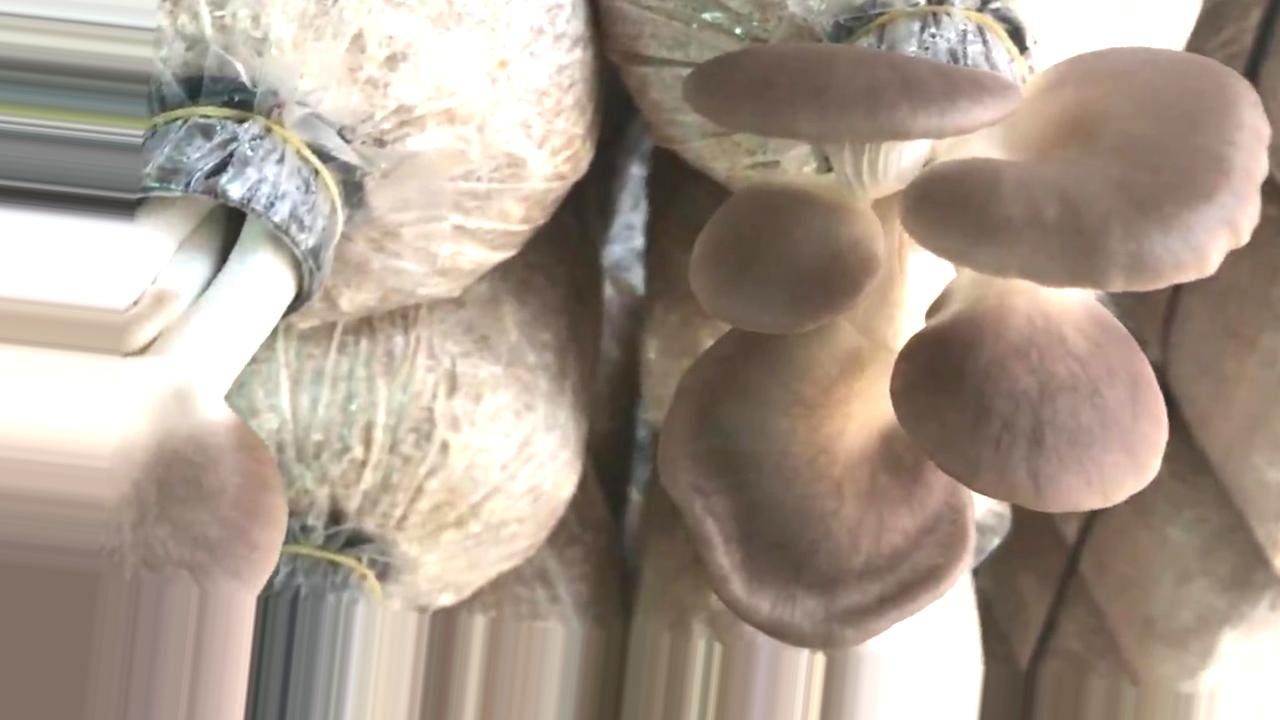nam: (659, 1, 1267, 653), (1, 109, 351, 720)
